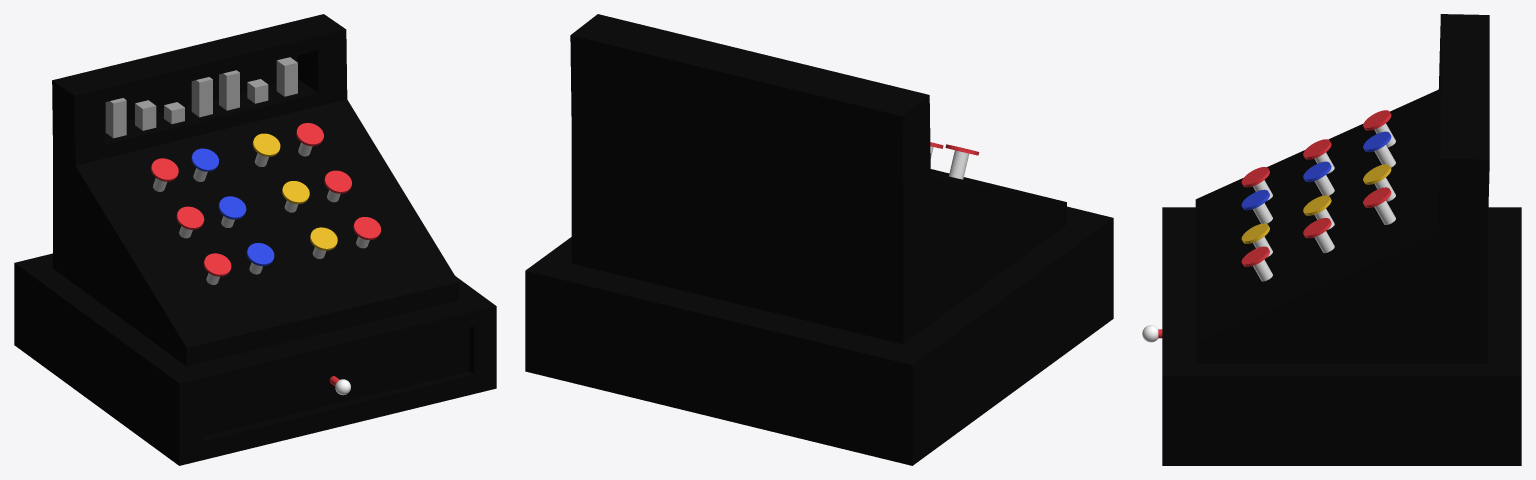
The model's file is kasa.fbx.
The picture shows the model from 3 angles, left to right: view 1: azimuth 30°, elevation 25°; view 2: azimuth 150°, elevation 25°; view 3: azimuth 270°, elevation 25°; orthographic projection. The views are drawn at different scales.
Parts seen in each view (by area): view 1: Cube, Cube.001, Cube.007, Cube.004, Cube.002, Cube.006, Circle.004, Circle.006, Circle.005, Circle.008, Circle, Circle.003 (+6 smaller); view 2: Cube; view 3: Cube.
Part boxes in pixels (bbox=[...]): Cube: bbox=[14, 14, 496, 465]; Cube.001: bbox=[191, 77, 212, 117]; Cube.007: bbox=[105, 98, 126, 138]; Cube.004: bbox=[276, 57, 297, 96]; Cube.002: bbox=[219, 70, 239, 110]; Cube.006: bbox=[135, 100, 156, 130]; Circle.004: bbox=[176, 206, 204, 229]; Circle.006: bbox=[218, 196, 246, 219]; Circle.005: bbox=[203, 253, 231, 276]; Circle.008: bbox=[324, 170, 351, 193]; Circle: bbox=[151, 158, 178, 181]; Circle.003: bbox=[296, 123, 323, 146]; Cube: bbox=[525, 14, 1113, 465]; Cube: bbox=[1162, 14, 1521, 465].
Size of the model in its own units: 327 by 267 by 311.
